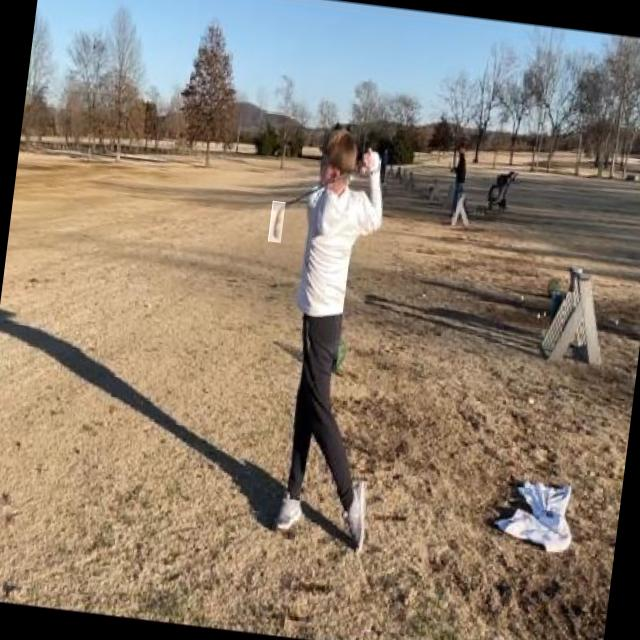club head: (267, 200, 285, 242)
